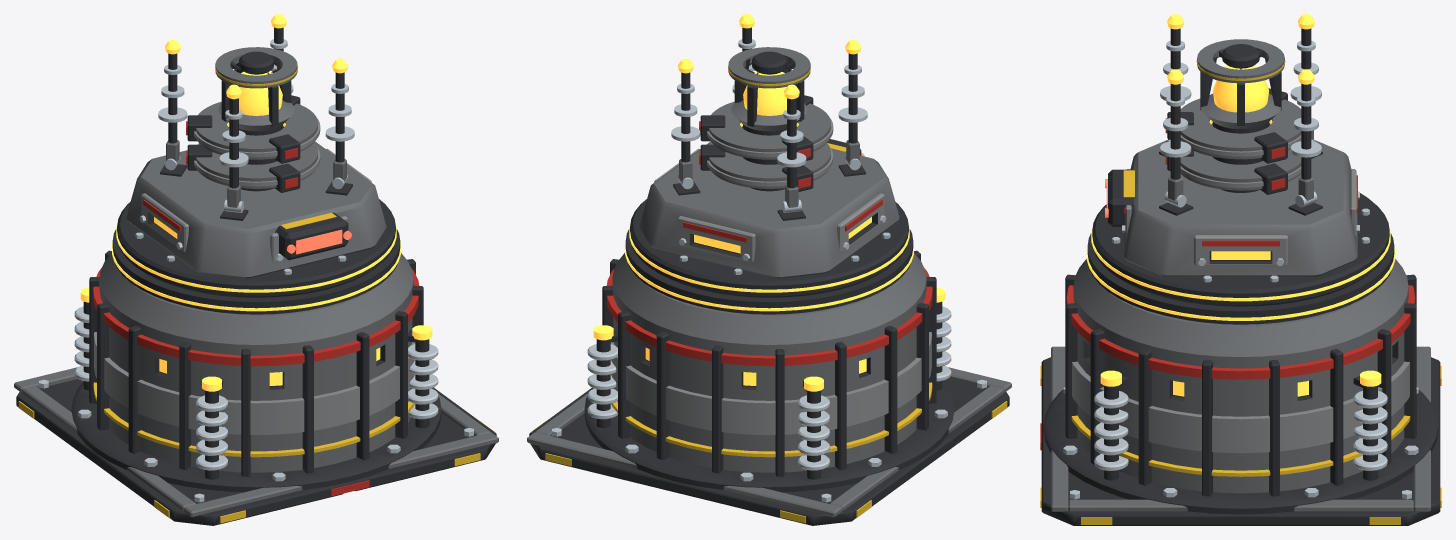
Rendered from R4W_EmpEmitter.glb.
The picture shows the model from 3 angles, left to right: view 1: azimuth 30°, elevation 25°; view 2: azimuth 150°, elevation 25°; view 3: azimuth 270°, elevation 25°; orthographic projection. The views are drawn at different scales.
Parts seen in each view (by area): view 1: R4W_EmpEmitter_Base, R4W_EmpEmitter_Yaw, R4W_EmpEmitter_ChargeRing_Upper, R4W_EmpEmitter_ChargeRing_Lower, R4W_EmpEmitter_Antenna_3, R4W_EmpEmitter_Antenna_2, R4W_EmpEmitter_Antenna_4; view 2: R4W_EmpEmitter_Base, R4W_EmpEmitter_Yaw, R4W_EmpEmitter_ChargeRing_Upper, R4W_EmpEmitter_ChargeRing_Lower, R4W_EmpEmitter_Antenna_2, R4W_EmpEmitter_Antenna_3, R4W_EmpEmitter_Antenna_1; view 3: R4W_EmpEmitter_Base, R4W_EmpEmitter_Yaw, R4W_EmpEmitter_ChargeRing_Upper, R4W_EmpEmitter_ChargeRing_Lower, R4W_EmpEmitter_Antenna_1, R4W_EmpEmitter_Antenna_4, R4W_EmpEmitter_Antenna_2, R4W_EmpEmitter_Antenna_3.
Part boxes in pixels (x1,y1,x2,y2): R4W_EmpEmitter_Base: (14, 229, 498, 525); R4W_EmpEmitter_Yaw: (116, 47, 396, 297); R4W_EmpEmitter_ChargeRing_Upper: (186, 95, 320, 163); R4W_EmpEmitter_ChargeRing_Lower: (186, 143, 320, 192); R4W_EmpEmitter_Antenna_3: (219, 84, 248, 212); R4W_EmpEmitter_Antenna_2: (158, 40, 187, 170); R4W_EmpEmitter_Antenna_4: (325, 58, 354, 189); R4W_EmpEmitter_Base: (527, 229, 1011, 525); R4W_EmpEmitter_Yaw: (629, 47, 909, 297); R4W_EmpEmitter_ChargeRing_Upper: (699, 95, 833, 160); R4W_EmpEmitter_ChargeRing_Lower: (699, 143, 833, 191); R4W_EmpEmitter_Antenna_2: (777, 84, 806, 212); R4W_EmpEmitter_Antenna_3: (838, 40, 867, 170); R4W_EmpEmitter_Antenna_1: (671, 58, 700, 189); R4W_EmpEmitter_Base: (1040, 233, 1441, 525); R4W_EmpEmitter_Yaw: (1091, 39, 1390, 306); R4W_EmpEmitter_ChargeRing_Upper: (1165, 88, 1301, 163); R4W_EmpEmitter_ChargeRing_Lower: (1165, 150, 1301, 194); R4W_EmpEmitter_Antenna_1: (1290, 69, 1321, 207); R4W_EmpEmitter_Antenna_4: (1160, 69, 1191, 207); R4W_EmpEmitter_Antenna_2: (1290, 14, 1321, 142); R4W_EmpEmitter_Antenna_3: (1160, 14, 1191, 142).
Bounding box in the file's own units: 0.5126 × 0.564 × 0.5126.
